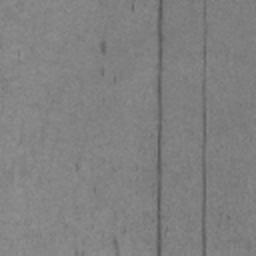Scratches: (154, 0, 164, 256), (200, 0, 209, 256)
